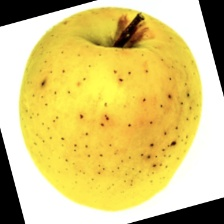apple: (36, 32, 185, 205)
